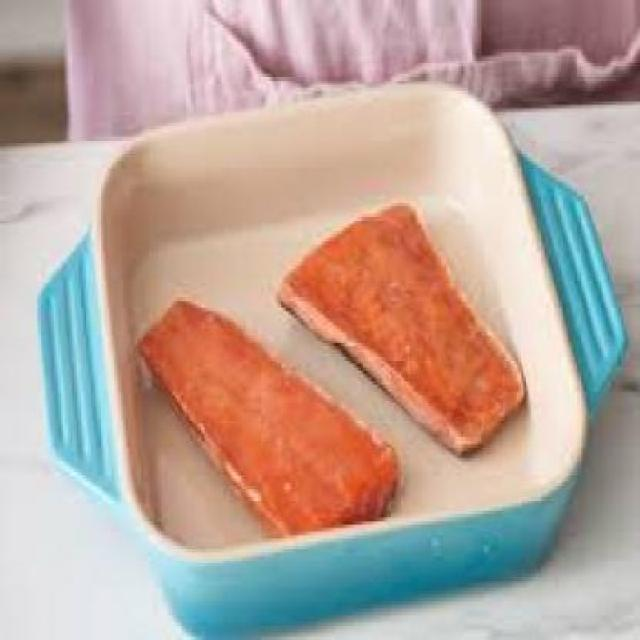salmon: (133, 286, 410, 562)
